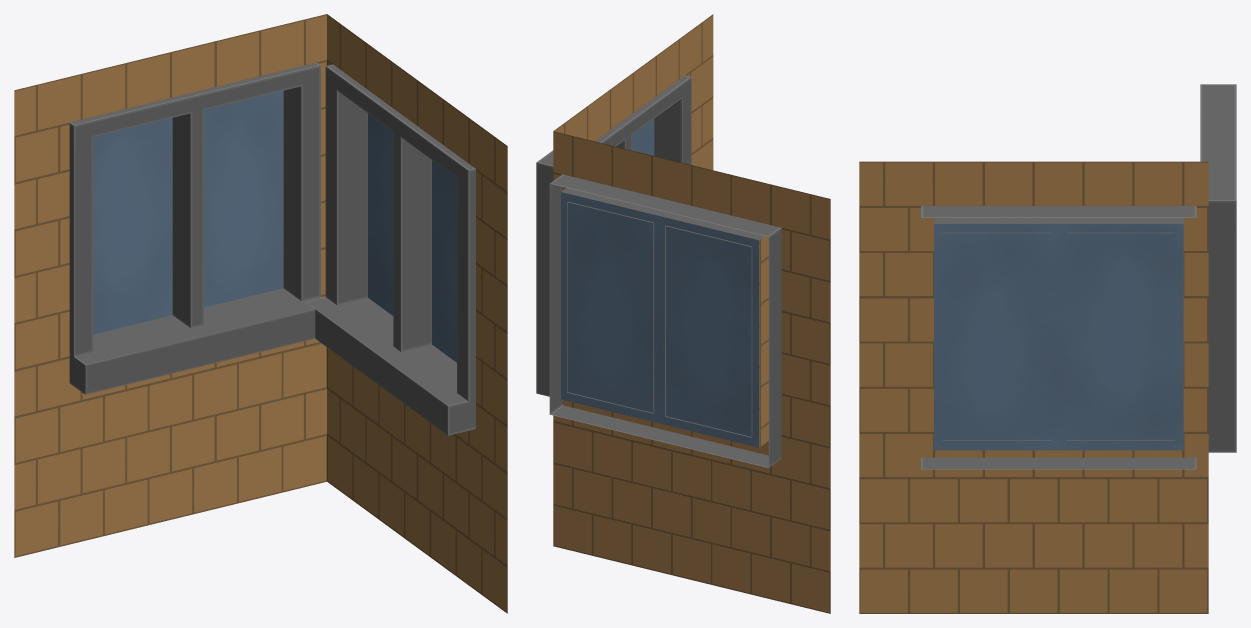
Rendered from Wall_1_InvertedCorner.fbx.
3 renders of one model, left to right at view 1: azimuth 30°, elevation 25°; view 2: azimuth 150°, elevation 25°; view 3: azimuth 270°, elevation 25°, orthographic. The views are drawn at different scales.
Visible parts, largest first — view 1: Wall_1_InvertedCorner; view 2: Wall_1_InvertedCorner; view 3: Wall_1_InvertedCorner.
Boxes of the visible parts, x1,y1,x2,y2 form: Wall_1_InvertedCorner: [14, 14, 507, 613]; Wall_1_InvertedCorner: [536, 14, 830, 613]; Wall_1_InvertedCorner: [859, 84, 1236, 613].
Bounding box in the file's own units: 265 × 350 × 265.
